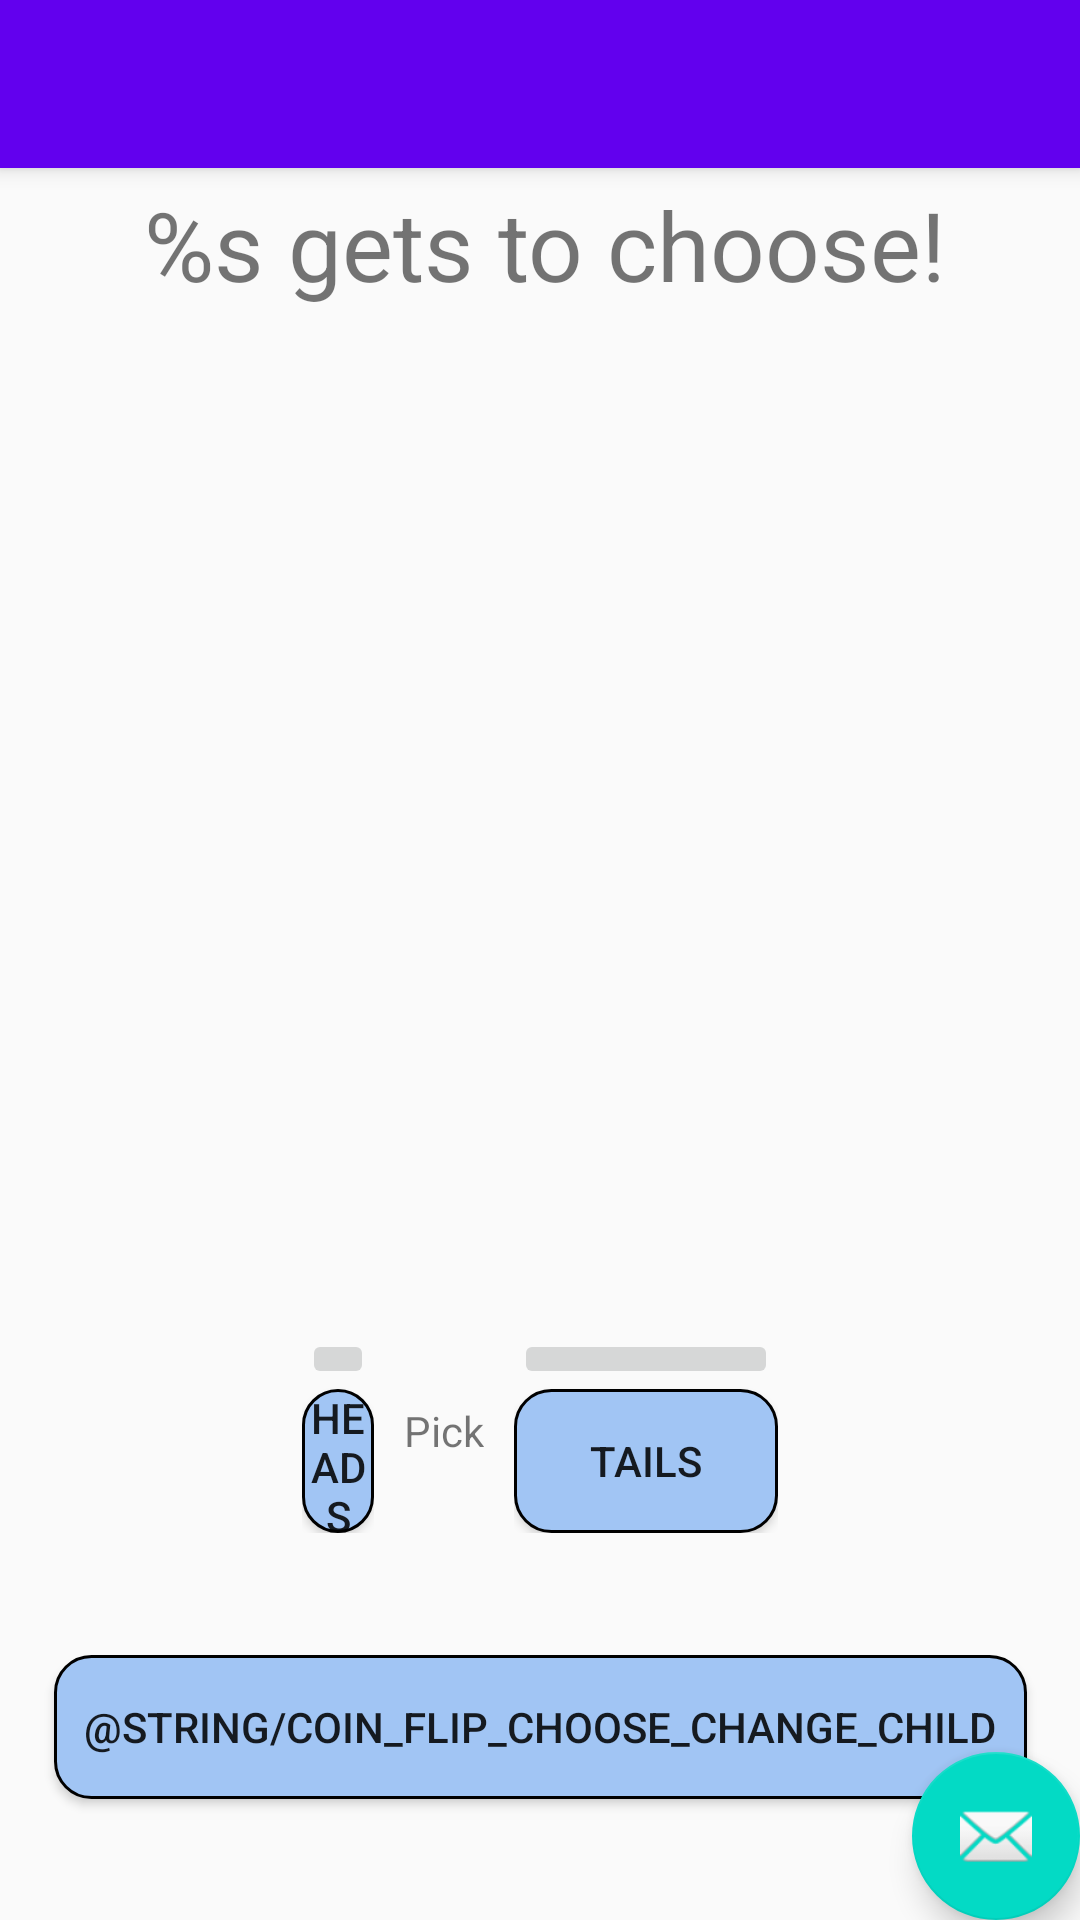

Icon click points for this 1080 × 1920 phone screenshot, format (x=x, y=y):
email: (x=996, y=1836)
